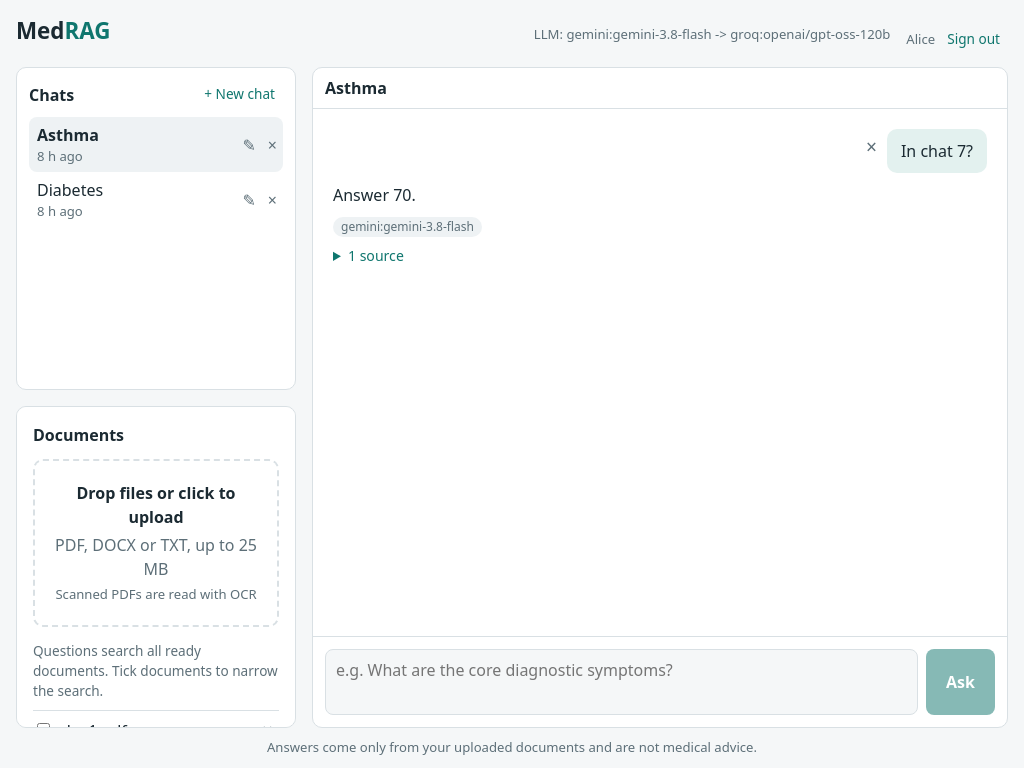
chats › switches between chats
Expected: the text "In chat 7?" is shown, [887, 129, 987, 173]
Click the button "Diabetes 8 h ago" at (132, 200), box [29, 172, 234, 228]
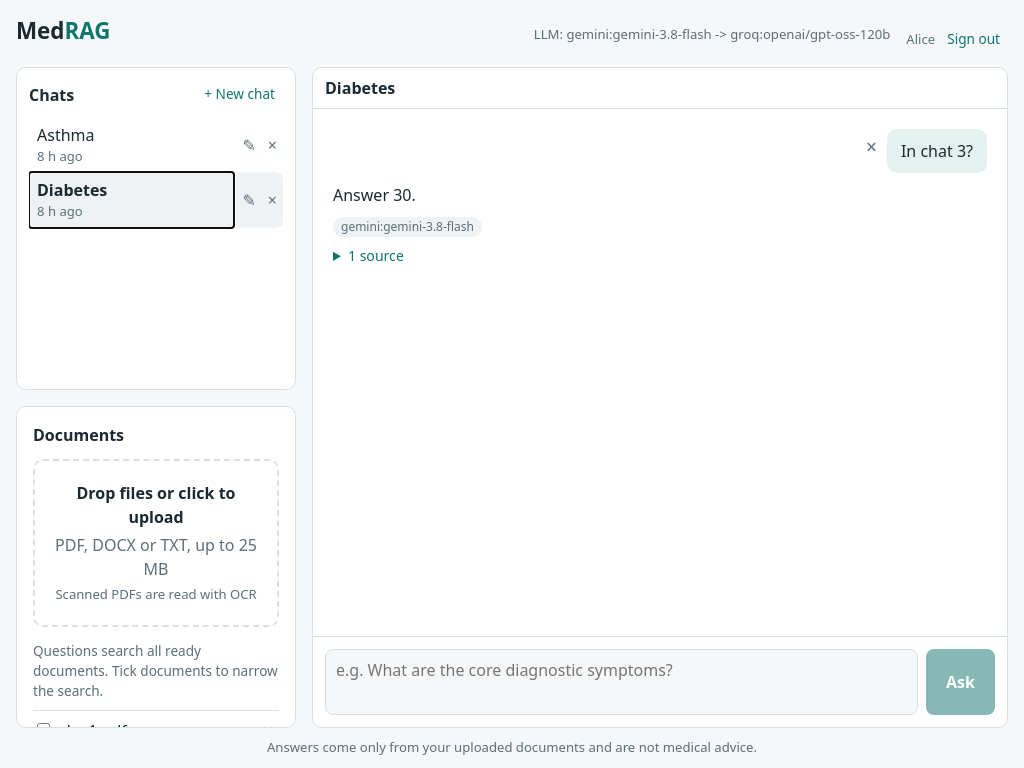
Expected: the text "In chat 3?" is shown, [887, 129, 987, 173]
Expected: the heading "Diabetes" is shown, [325, 76, 395, 100]
